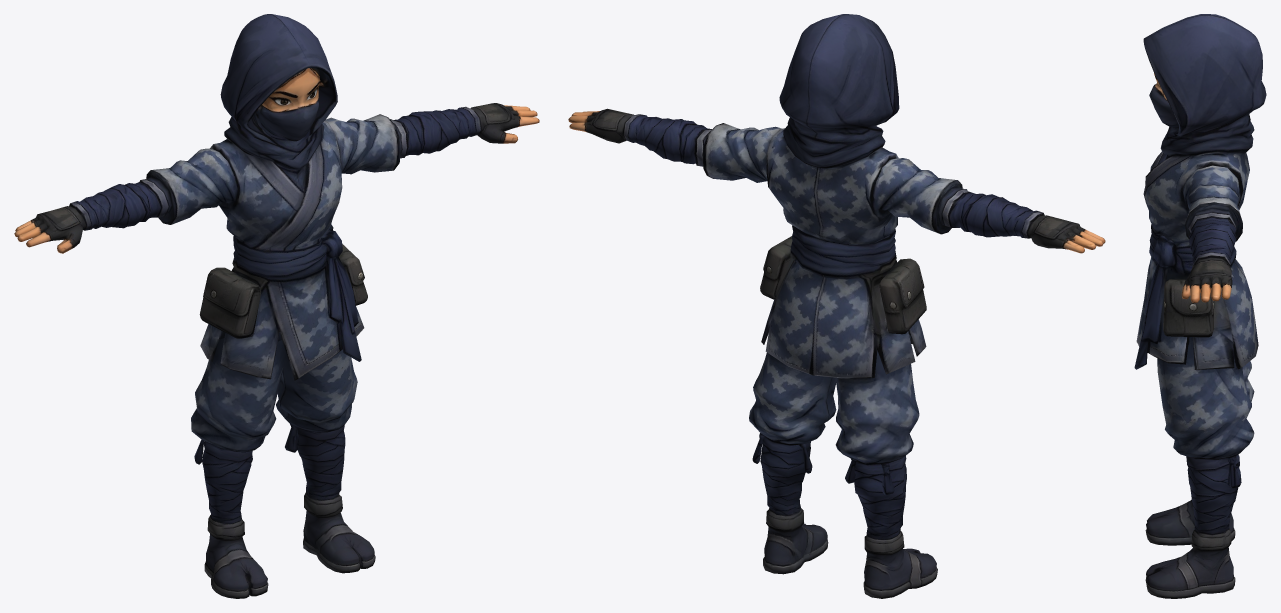
Rendered from ninja+character+3d+model.glb.
3 views of the same model, side by side, from view 1: azimuth 30°, elevation 25°; view 2: azimuth 150°, elevation 25°; view 3: azimuth 270°, elevation 25° (orthographic). The views are drawn at different scales.
Parts seen in each view (by area): view 1: tripo_node_5676d5de-6cf3-4a3f-bc54-e7af5346b0e4; view 2: tripo_node_5676d5de-6cf3-4a3f-bc54-e7af5346b0e4; view 3: tripo_node_5676d5de-6cf3-4a3f-bc54-e7af5346b0e4.
Boxes of the visible parts, left/top/right/bottom form: tripo_node_5676d5de-6cf3-4a3f-bc54-e7af5346b0e4: left=14, top=14, right=539, bottom=598; tripo_node_5676d5de-6cf3-4a3f-bc54-e7af5346b0e4: left=568, top=14, right=1105, bottom=598; tripo_node_5676d5de-6cf3-4a3f-bc54-e7af5346b0e4: left=1134, top=14, right=1266, bottom=598.
Size of the model in its own units: 0.9966 by 0.9995 by 0.2192.
1 material, 1 textured.
